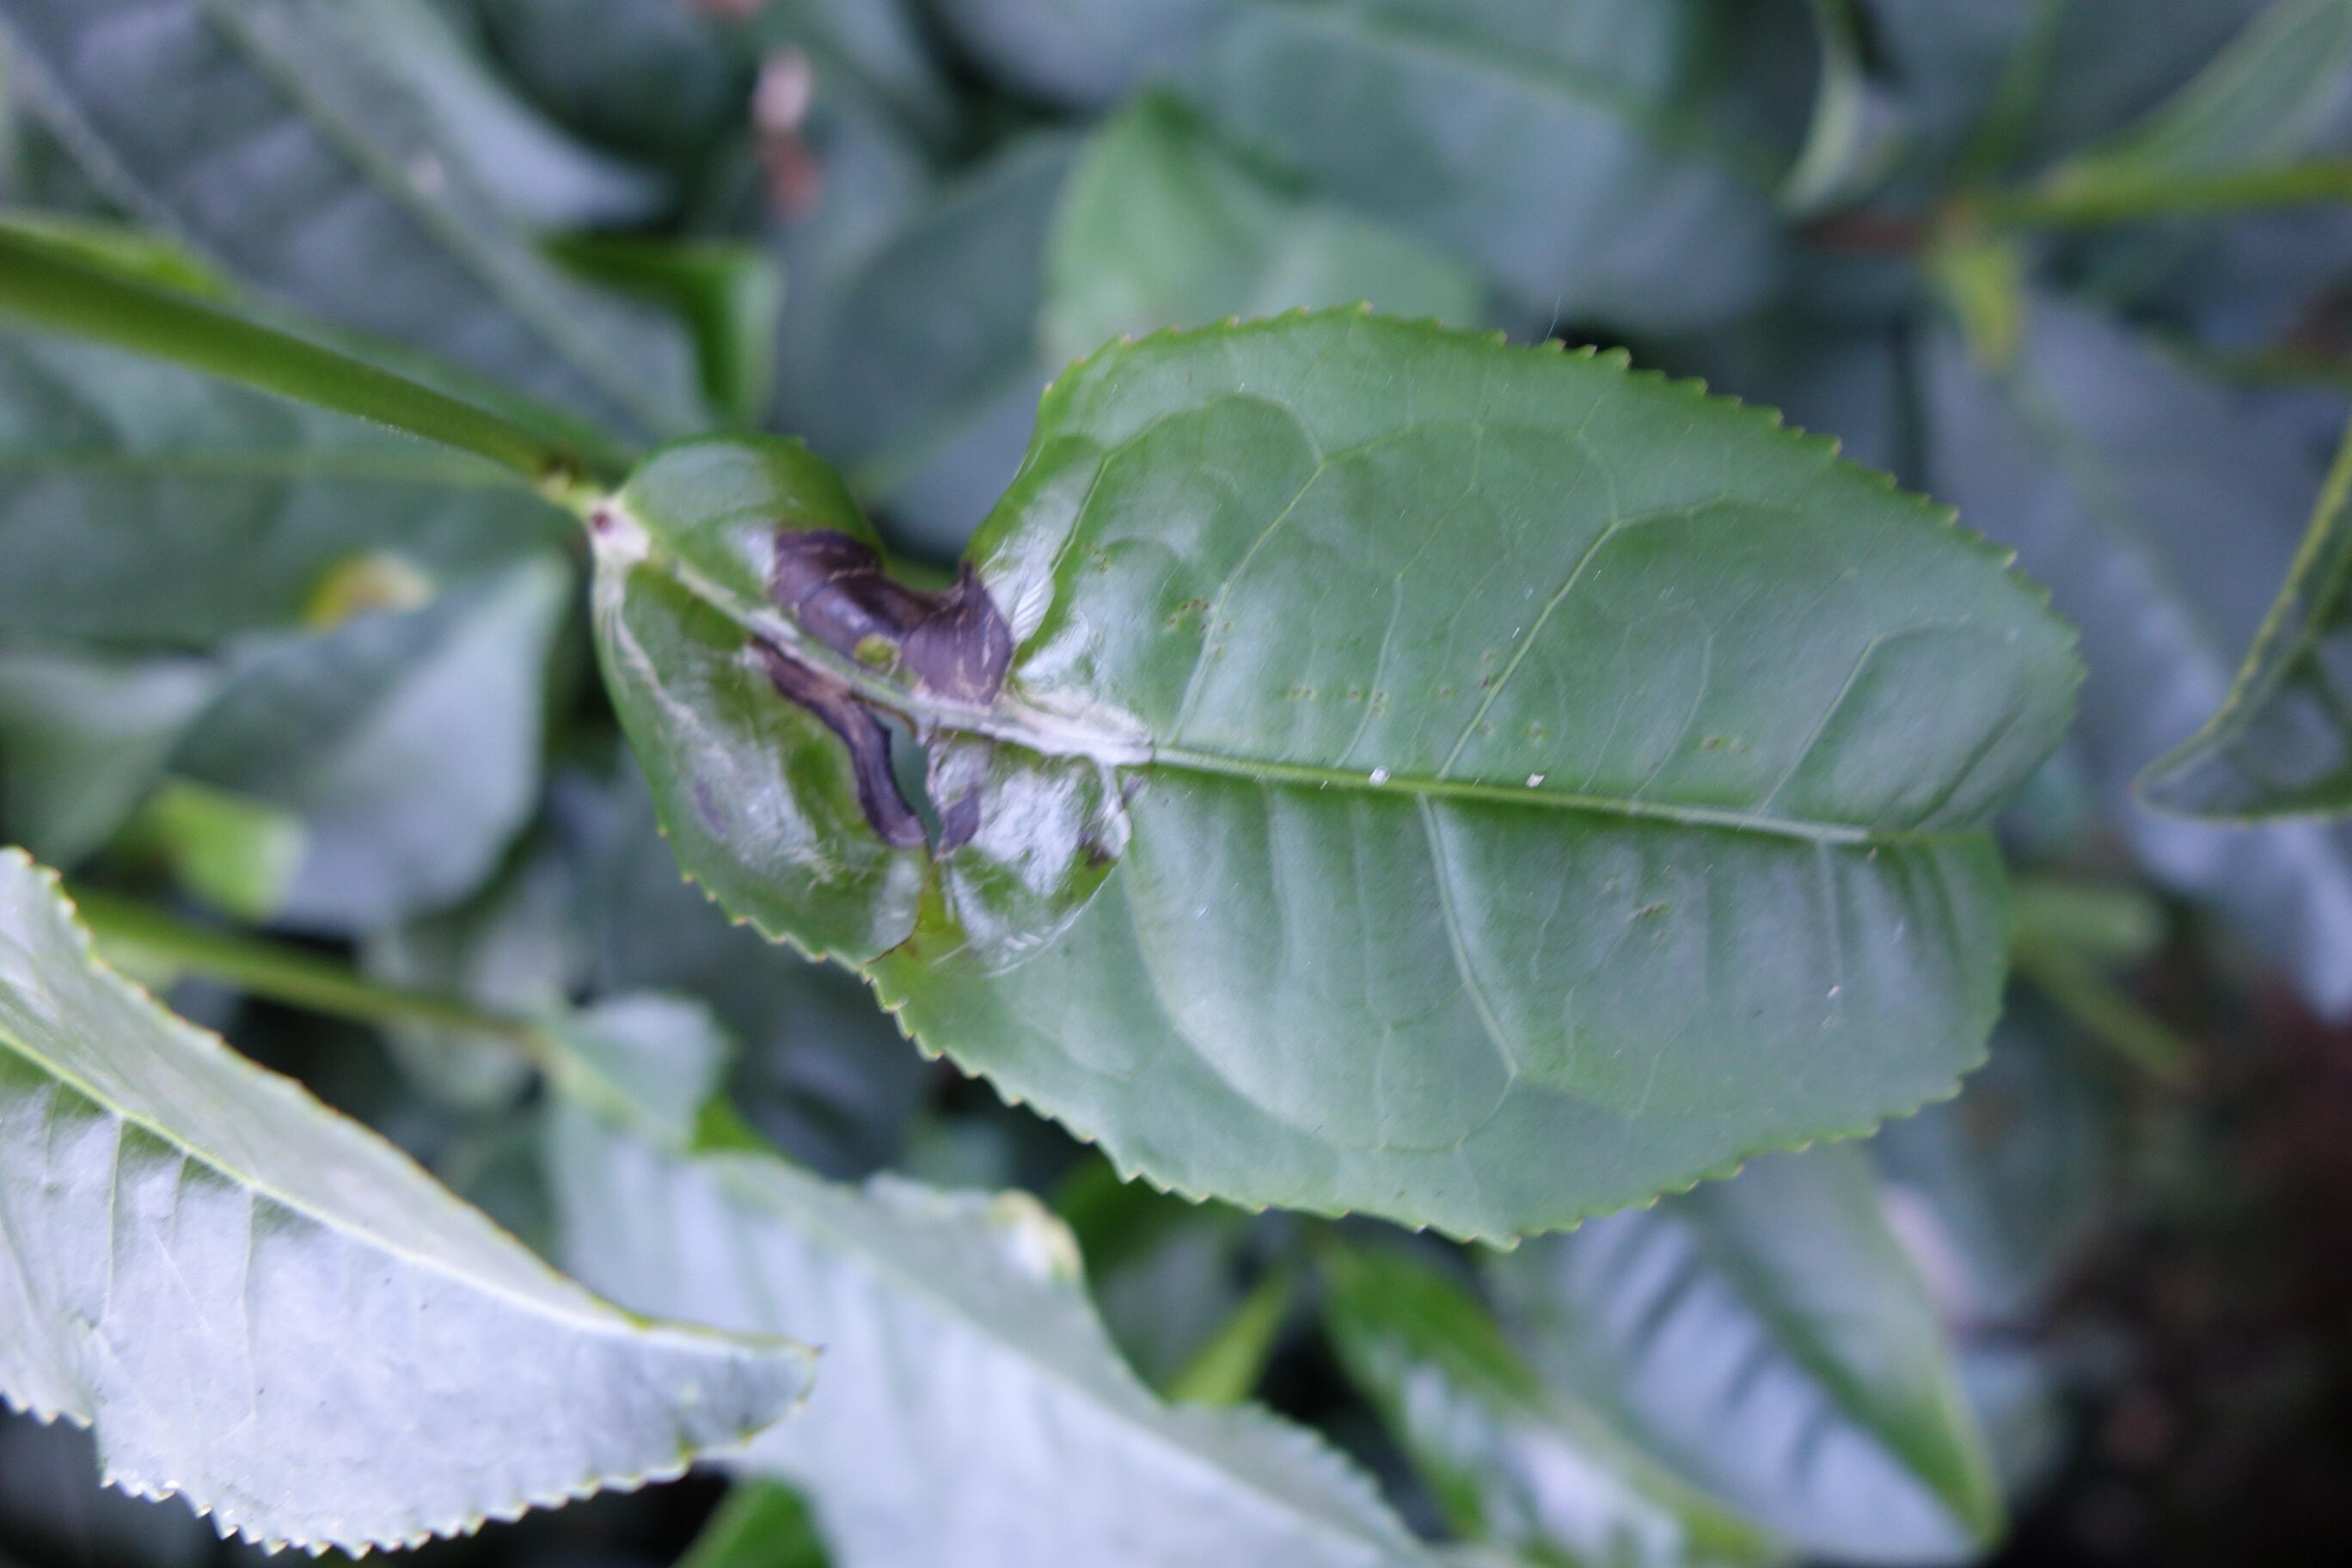tanju_high: (581, 297, 2091, 1251)
